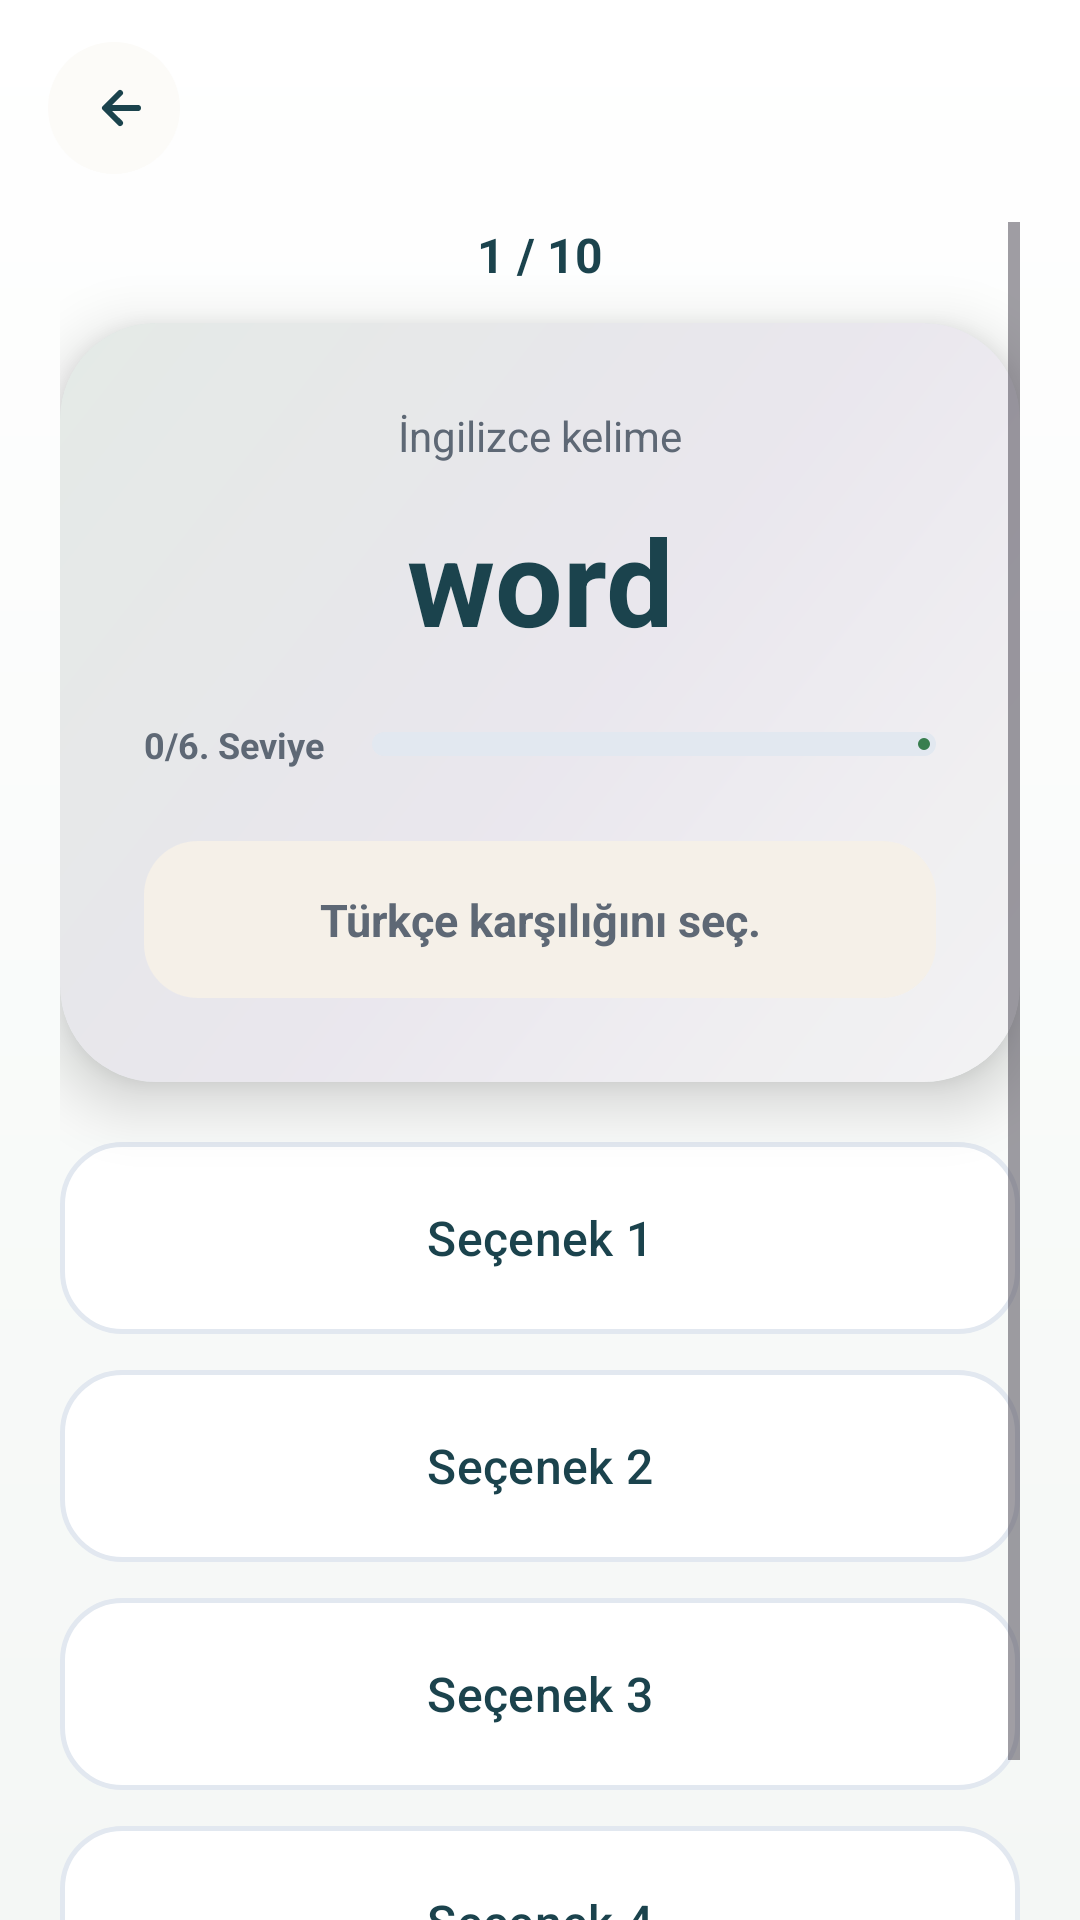

Icons on this 1080px×1920px Android screen, each with the point to tap as (x,y):
Geri: (121,108)
